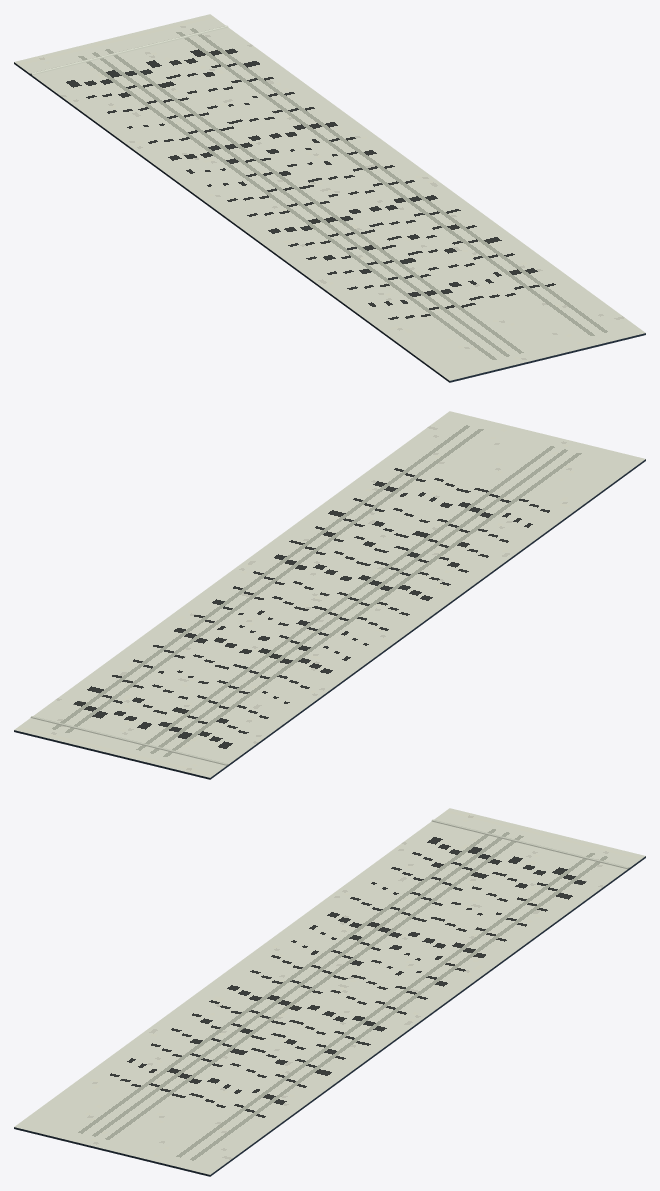
The model's file is medium_printout_portal_storm_data.glb.
3 renders of one model, top to bottom at view 1: azimuth 30°, elevation 25°; view 2: azimuth 150°, elevation 25°; view 3: azimuth 330°, elevation 25°, orthographic.
Parts seen in each view (by area): view 1: block_printed paper, block_curled end; view 2: block_printed paper, block_curled end; view 3: block_printed paper, block_curled end.
Part boxes in pixels (x1,y1,x2,y2): block_printed paper: (14,14,645,382); block_curled end: (30,25,228,75); block_printed paper: (14,411,645,779); block_curled end: (30,716,228,765); block_printed paper: (14,808,645,1176); block_curled end: (431,819,629,869).
Size of the model in its own units: 0.0606 by 0.000964 by 0.2329.
Materials: 1 (1 with a texture image).
